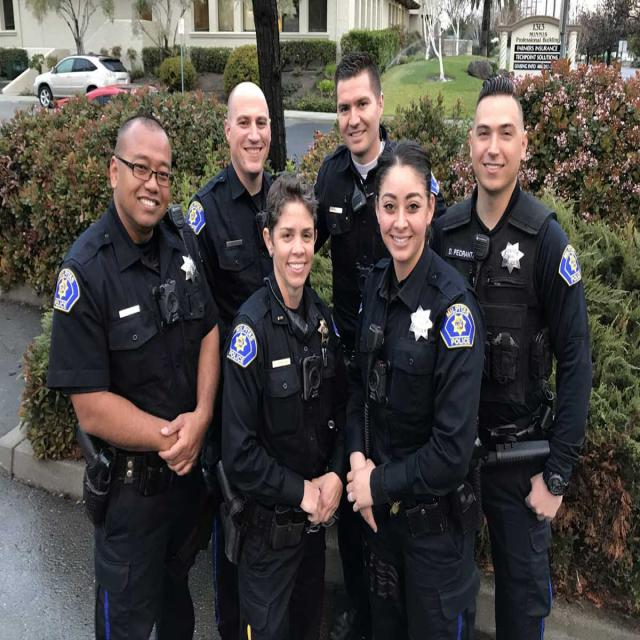police: (435, 71, 601, 634), (64, 95, 225, 640), (354, 129, 493, 640), (202, 183, 348, 640)
